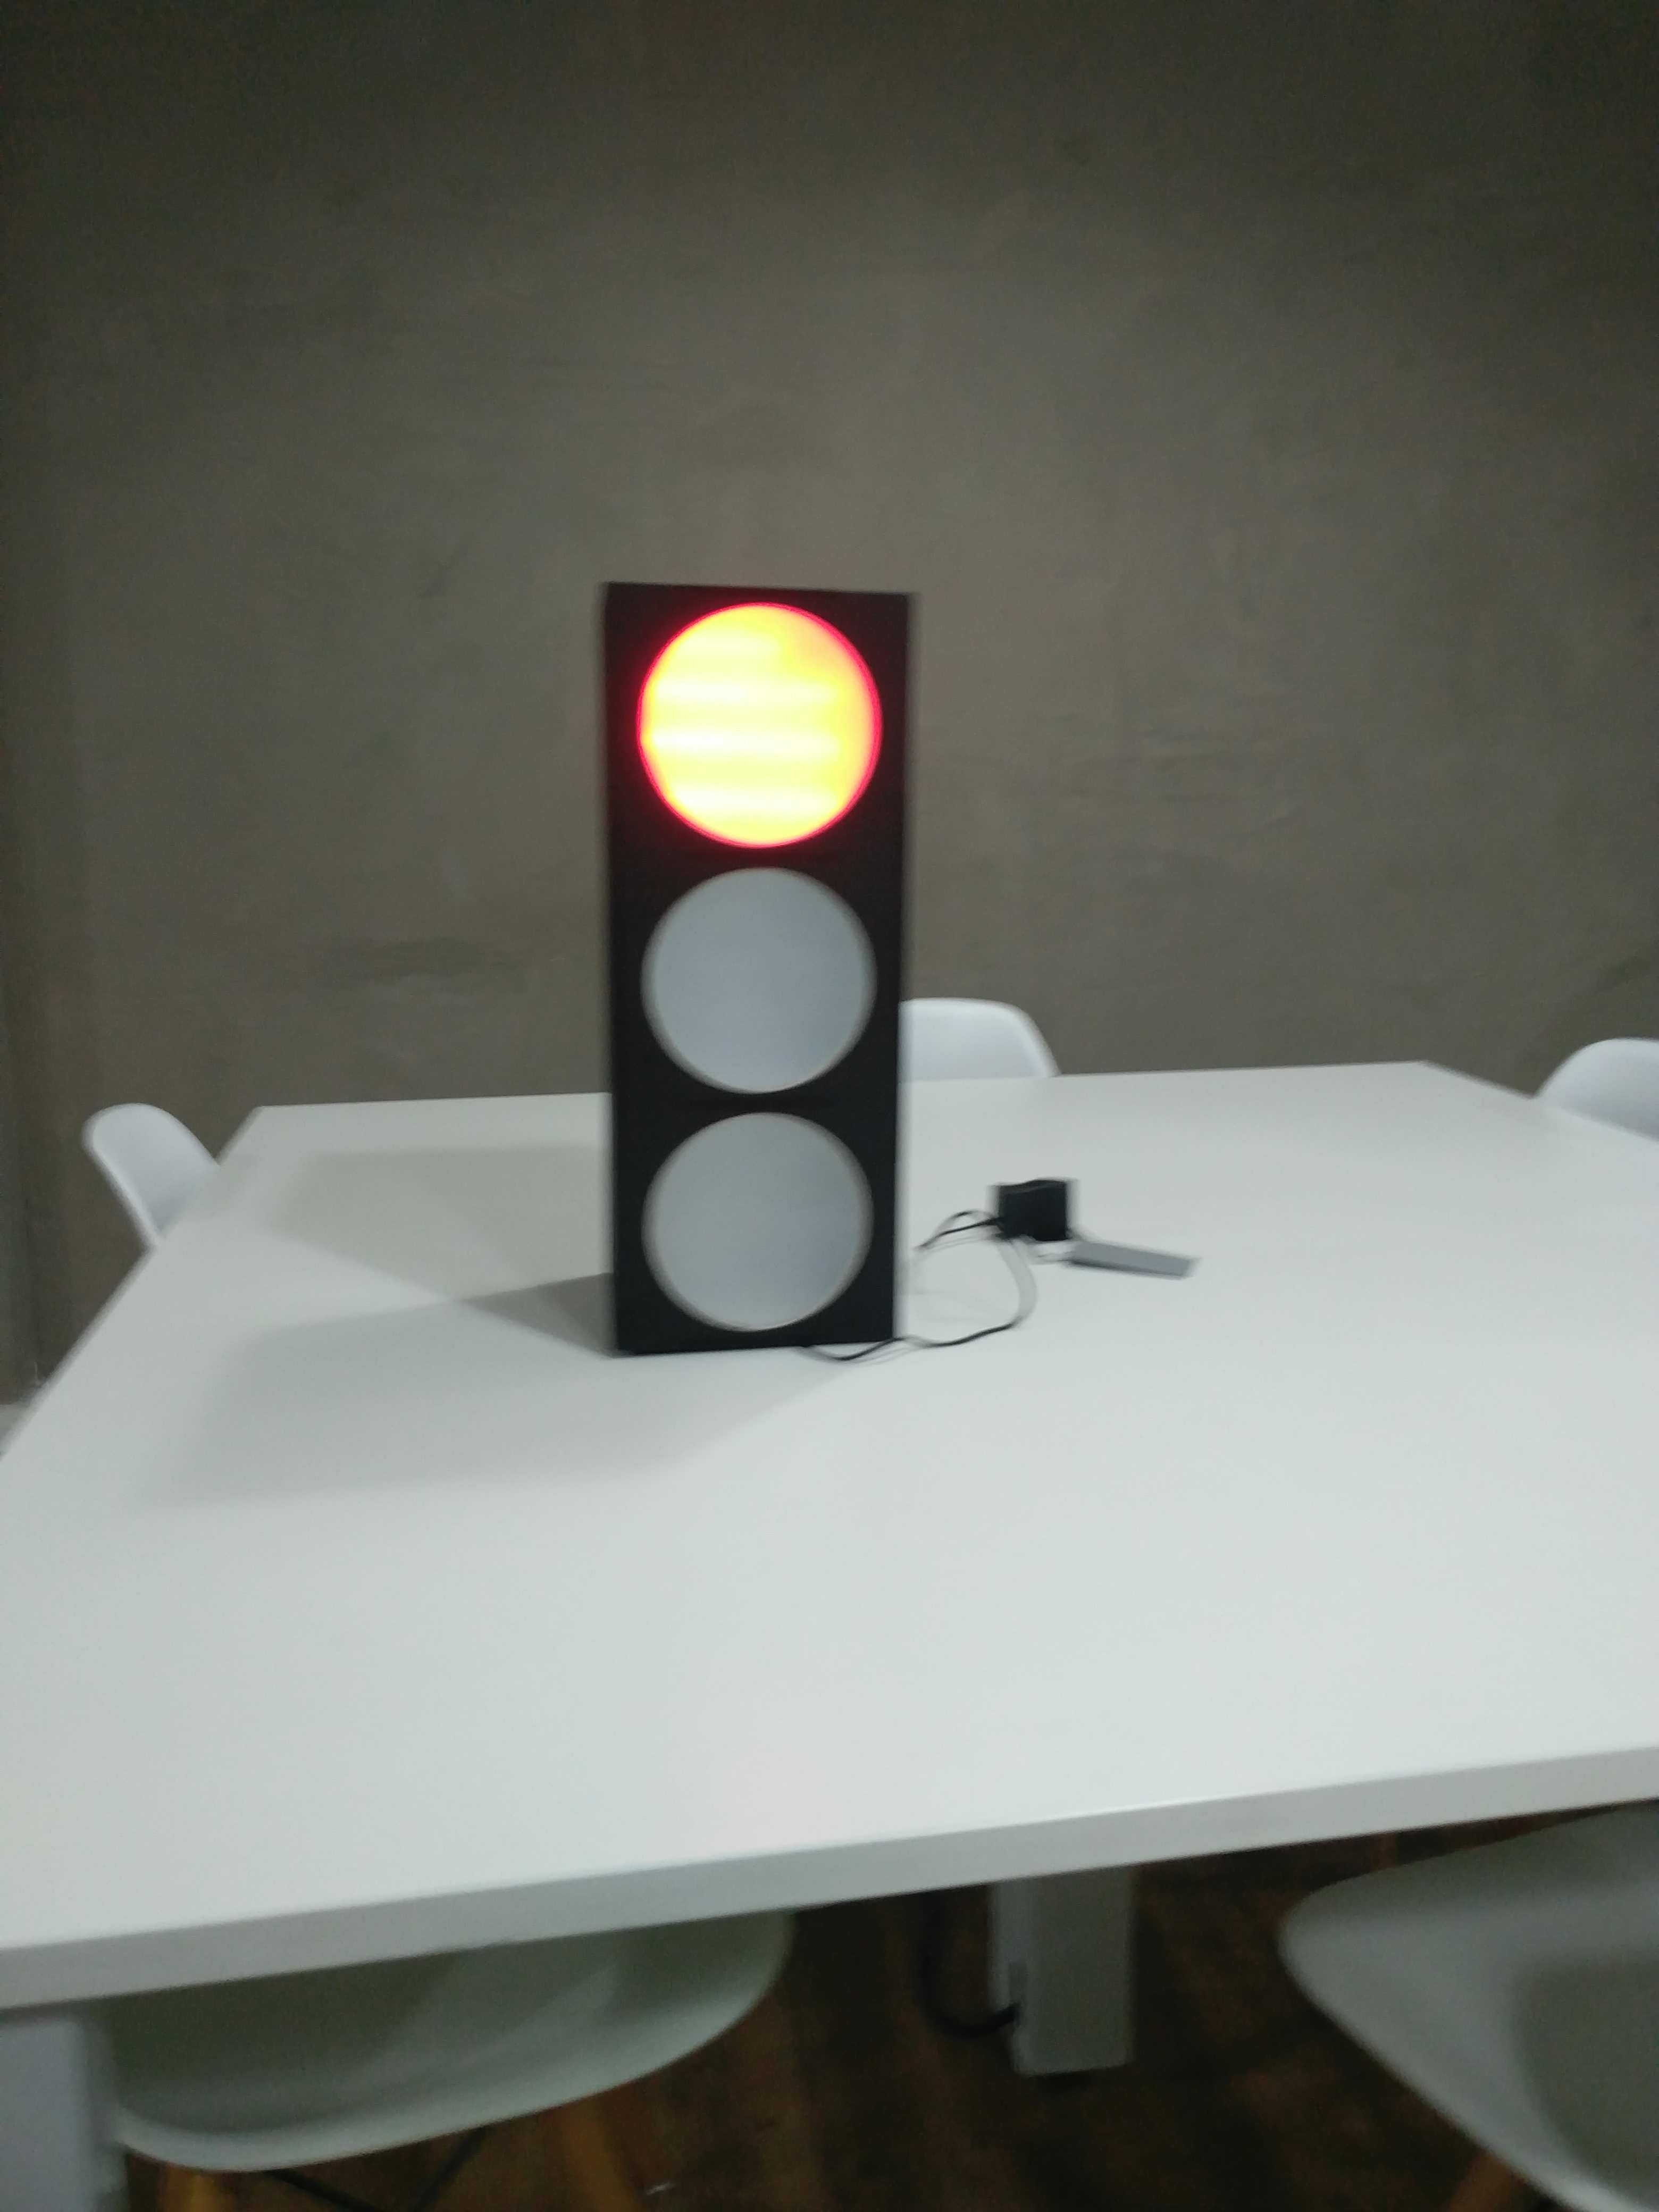stop: (592, 568, 917, 1353)
